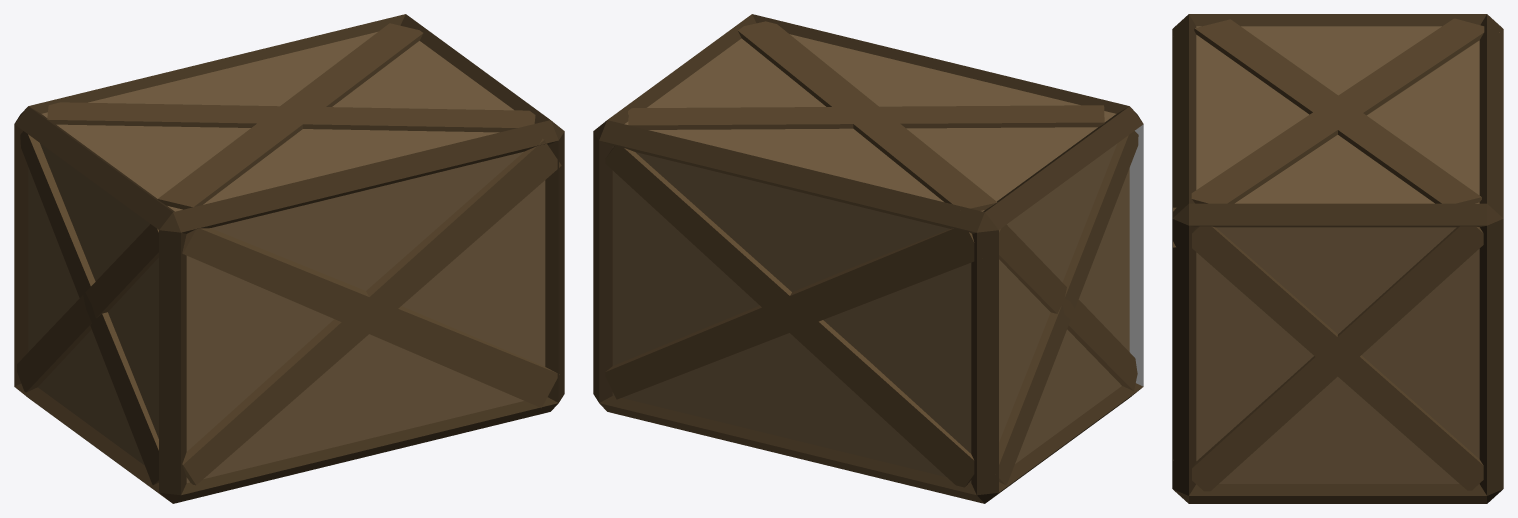
Rendered from Caja_media.fbx.
3 renders of one model, left to right at view 1: azimuth 30°, elevation 25°; view 2: azimuth 150°, elevation 25°; view 3: azimuth 270°, elevation 25°, orthographic. The views are drawn at different scales.
Parts seen in each view (by area): view 1: pCube50; view 2: pCube50; view 3: pCube50.
Part boxes in pixels (box(x1,y1,x2,y2)): pCube50: box(14, 14, 564, 503); pCube50: box(593, 14, 1143, 503); pCube50: box(1172, 14, 1503, 503).
Size of the model in its own units: 7.26 by 4.99 by 4.99.
